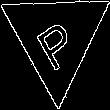P_NW: (30, 7, 82, 70)
